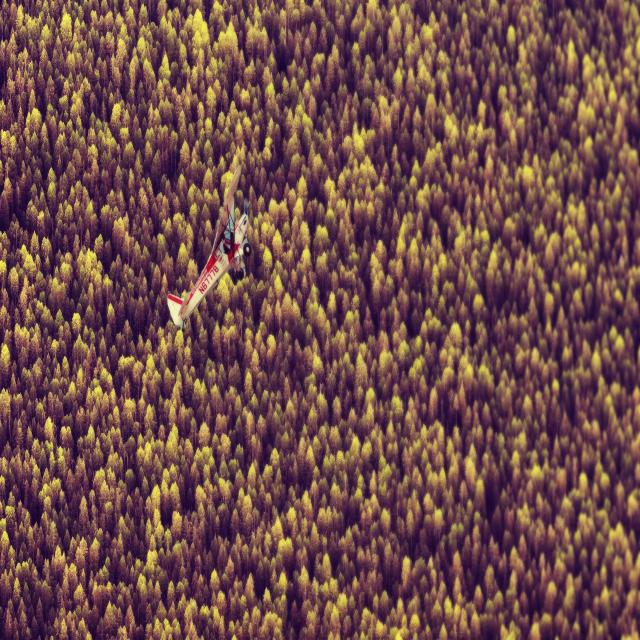airplane: (166, 163, 252, 331)
